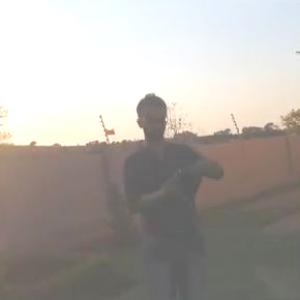follow: (120, 81, 230, 299)
